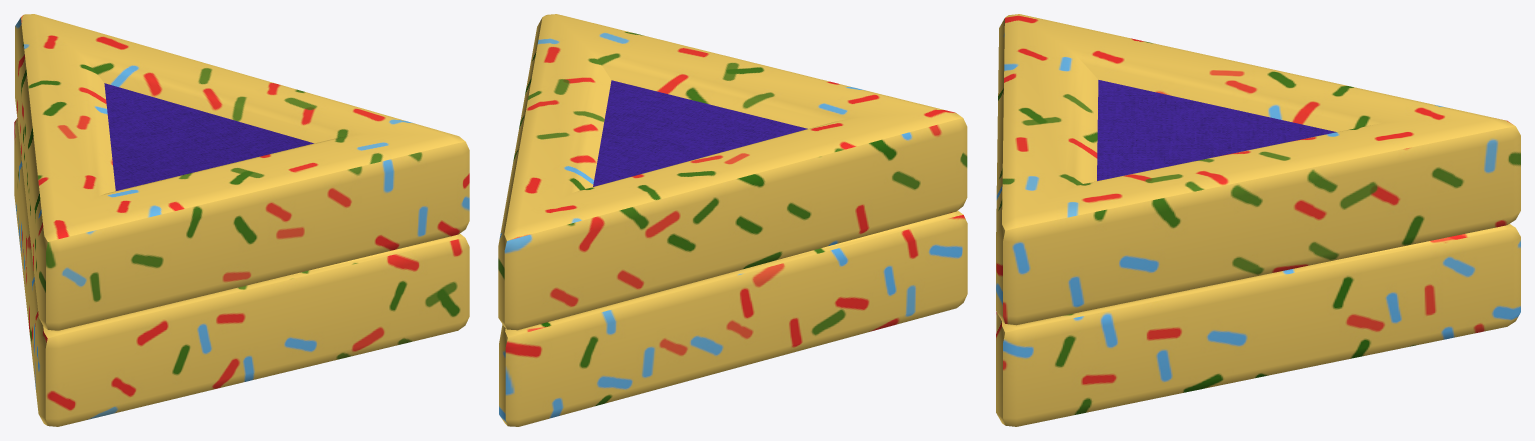
The model's file is PLF0110053.fbx.
The picture shows the model from 3 angles, left to right: view 1: azimuth 30°, elevation 25°; view 2: azimuth 150°, elevation 25°; view 3: azimuth 270°, elevation 25°; orthographic projection. The views are drawn at different scales.
Visible parts, largest first — view 1: smPLF0110053; view 2: smPLF0110053; view 3: smPLF0110053.
Boxes of the visible parts, box(x1,y1,x2,y2) form: smPLF0110053: box(14, 14, 469, 426); smPLF0110053: box(498, 14, 967, 426); smPLF0110053: box(996, 14, 1520, 426).
Bounding box in the file's own units: 179 × 79.18 × 181.
1 material, 1 textured.
